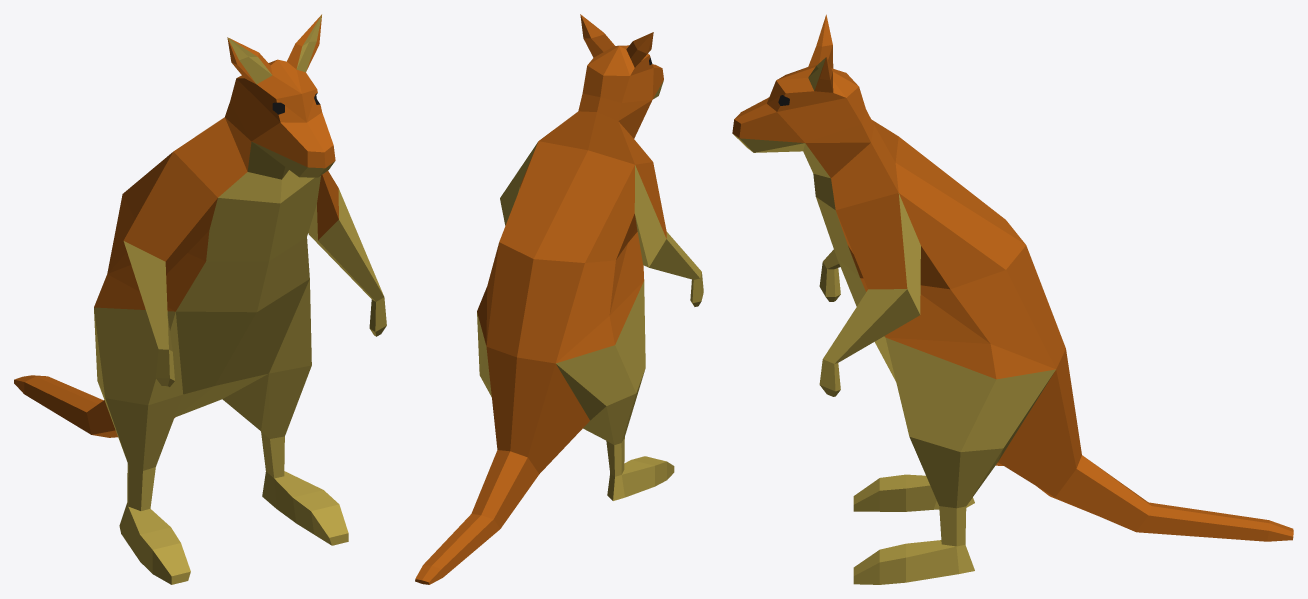
The model's file is Kengooru_V2.fbx.
3 renders of one model, left to right at view 1: azimuth 30°, elevation 25°; view 2: azimuth 150°, elevation 25°; view 3: azimuth 270°, elevation 25°, orthographic. The views are drawn at different scales.
Visible parts, largest first — view 1: Cube; view 2: Cube; view 3: Cube.
Part boxes in pixels (x1=…): Cube: x1=14, y1=14, x2=386, y2=584; Cube: x1=415, y1=14, x2=703, y2=584; Cube: x1=732, y1=14, x2=1293, y2=584.
Size of the model in its own units: 234 by 536 by 536.
